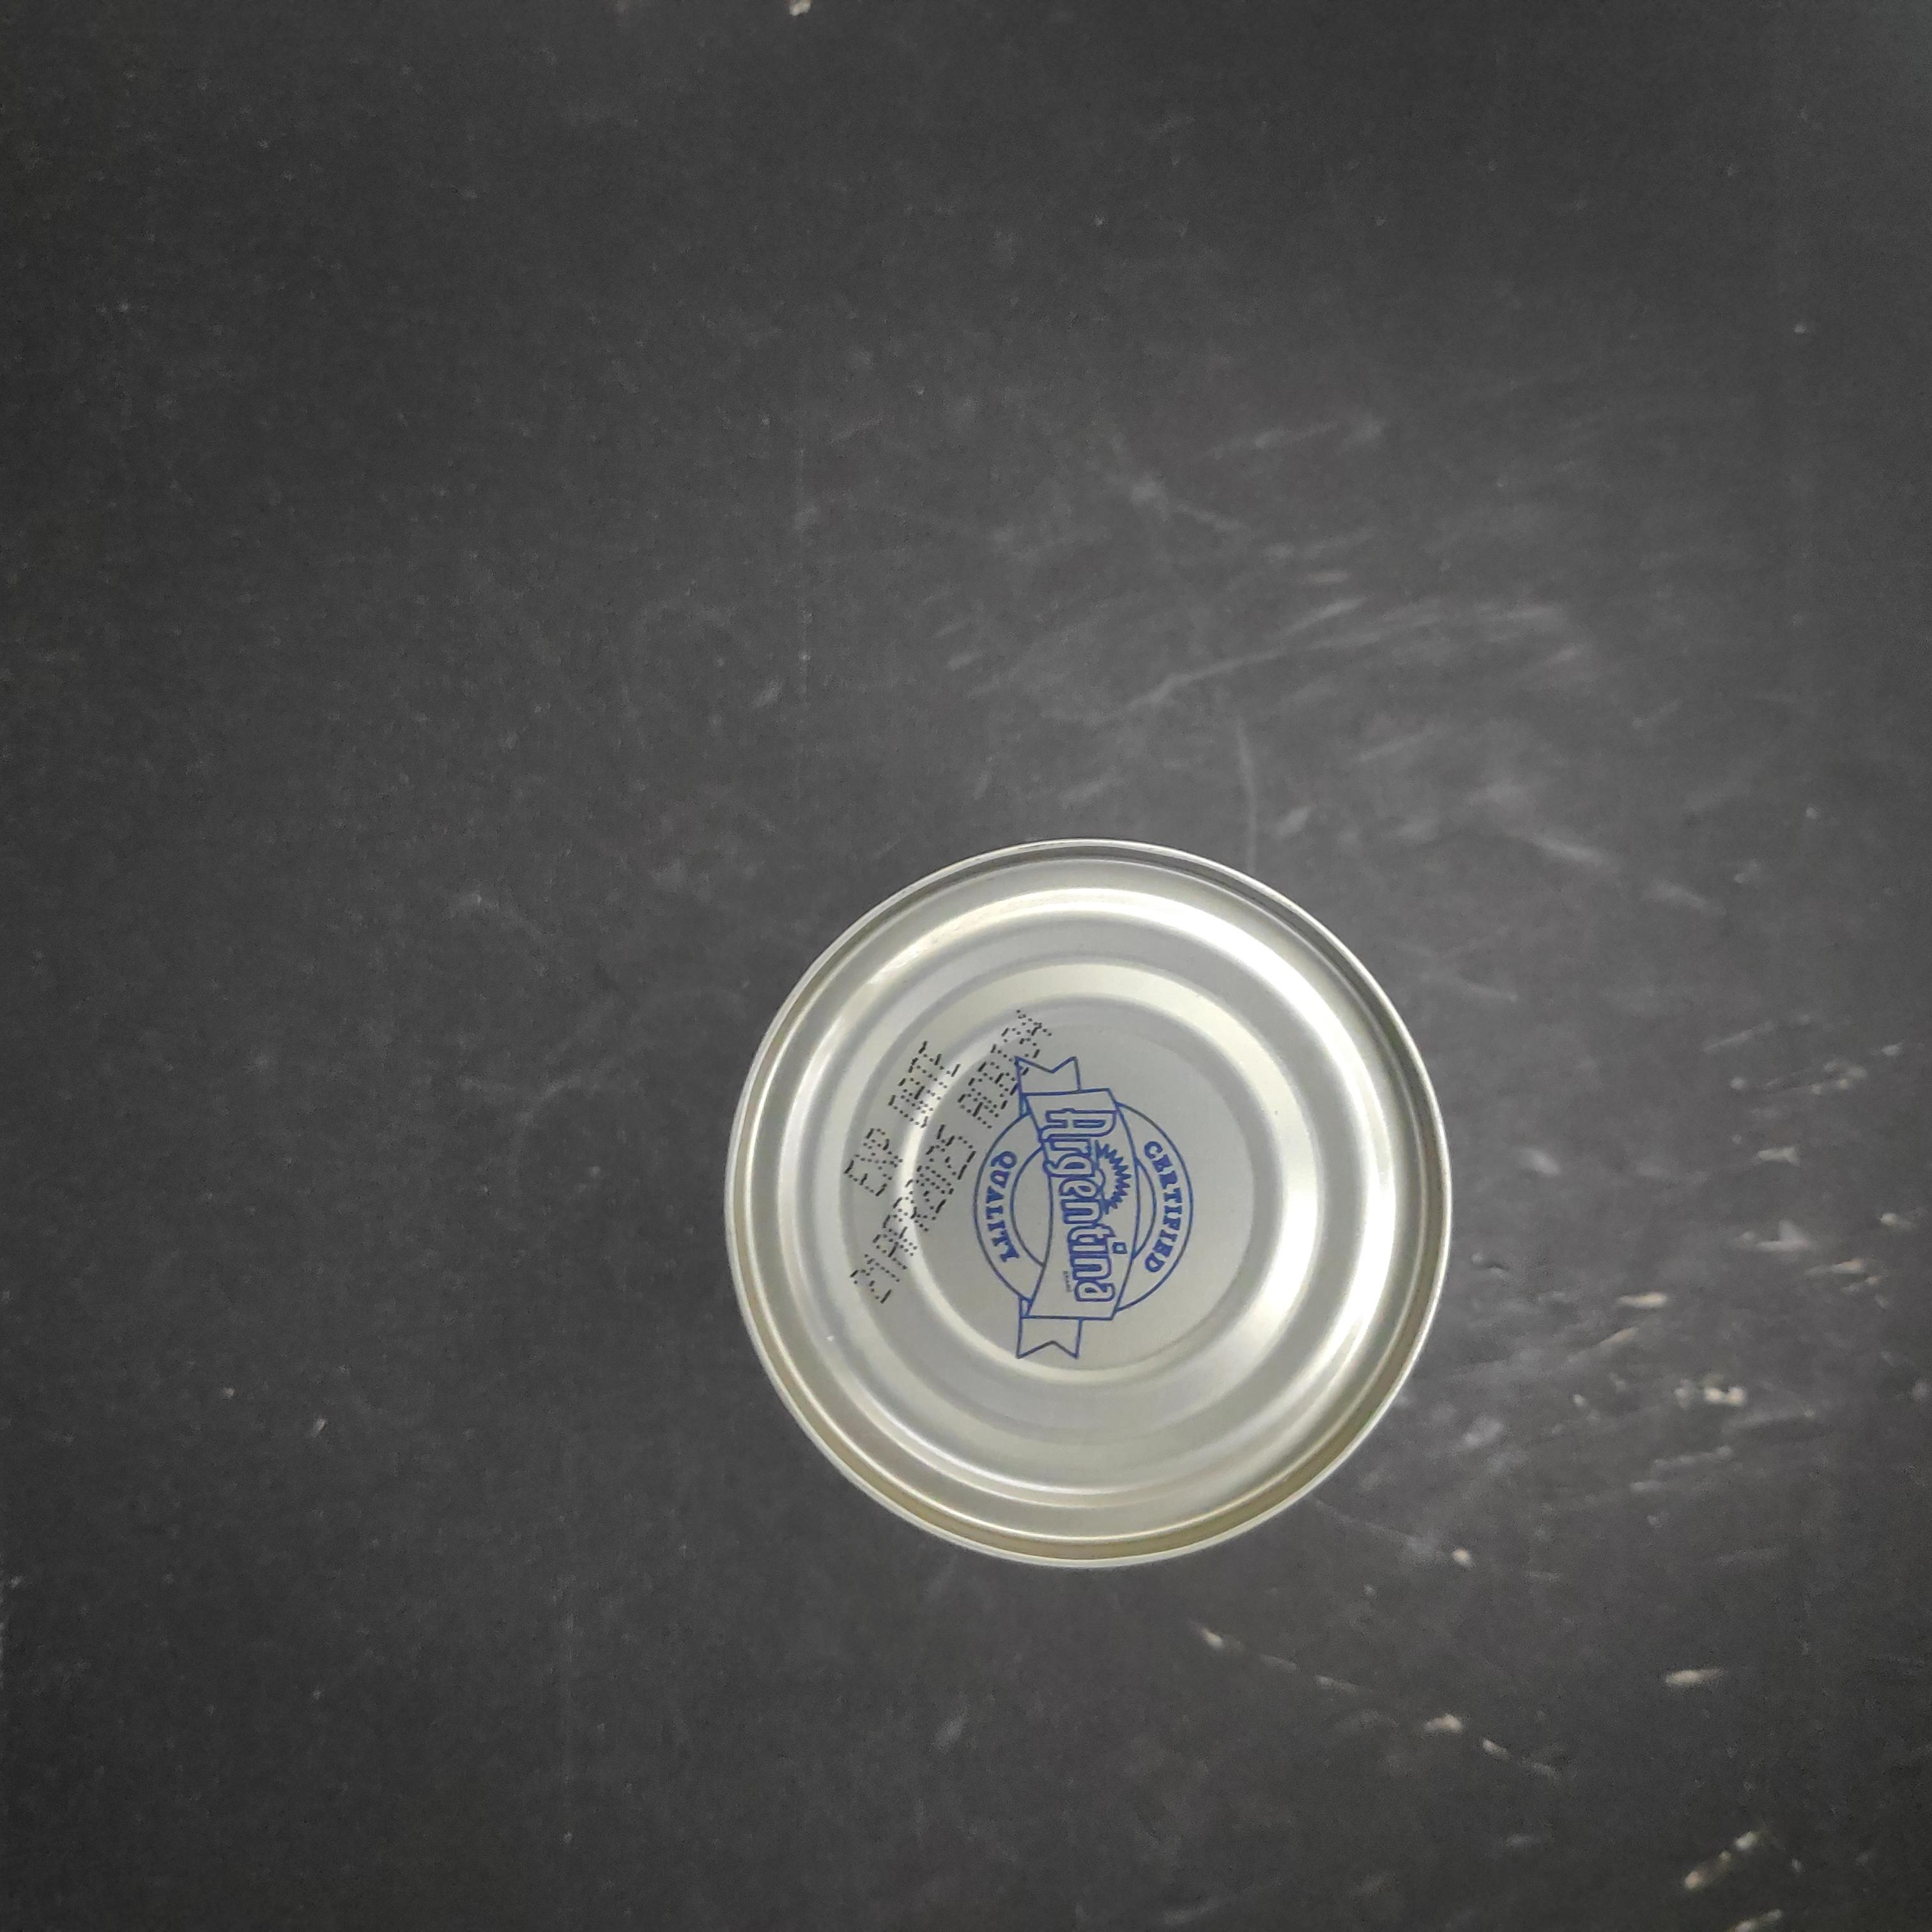No defect: (722, 835, 1456, 1575)
